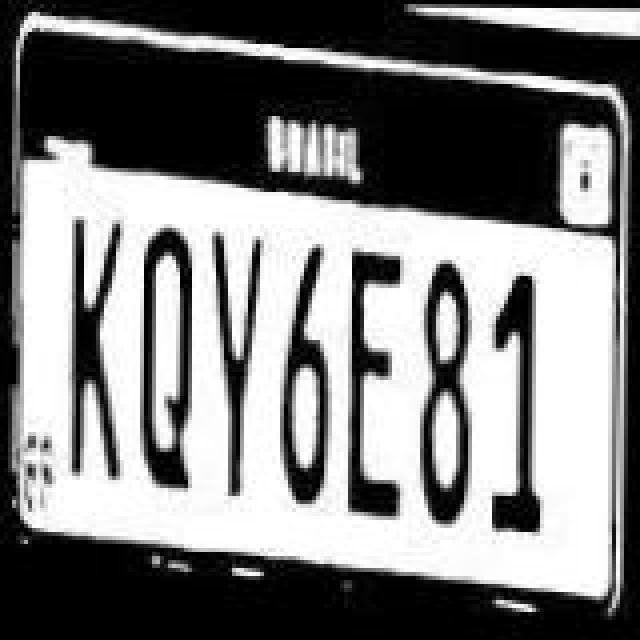1: (484, 270, 548, 542)
6: (278, 234, 346, 510)
8: (412, 254, 484, 542)
E: (346, 242, 414, 518)
K: (64, 216, 136, 492)
Q: (140, 220, 204, 488)
Y: (210, 222, 278, 502)
